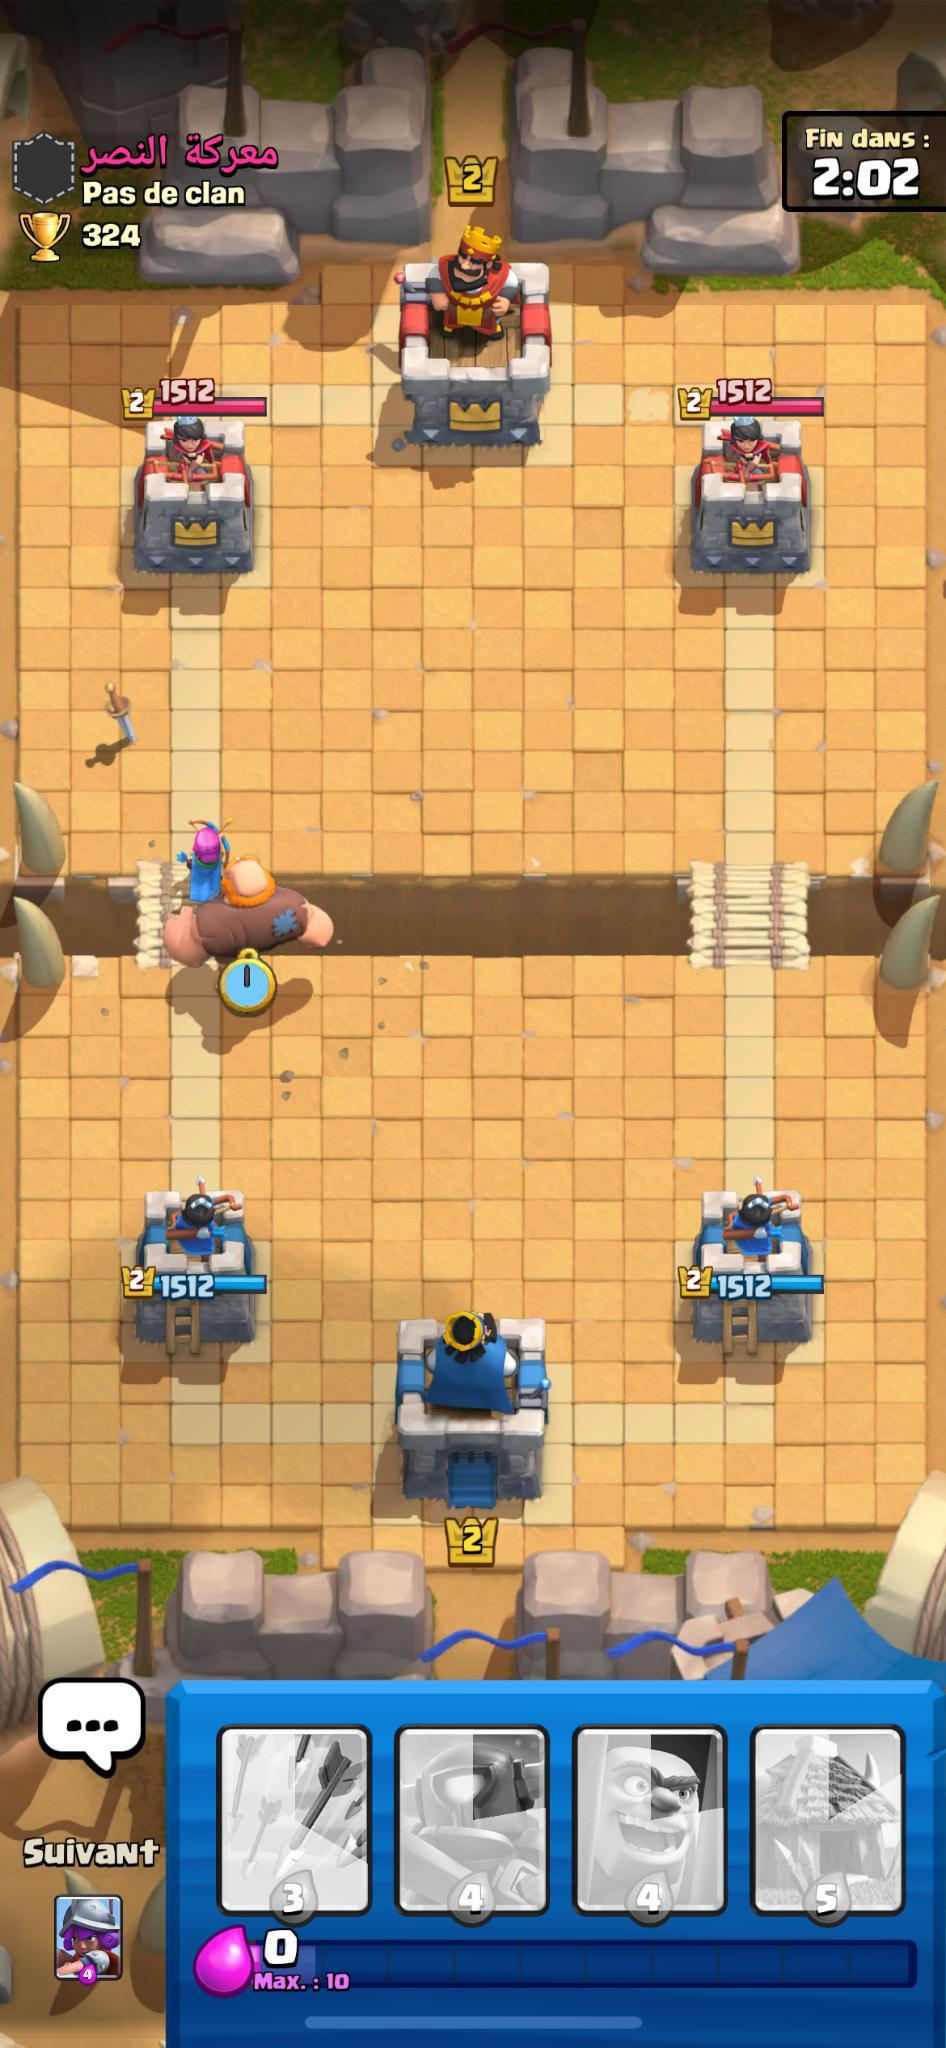player_archers: (177, 811, 235, 909)
player_giant: (163, 846, 339, 982)
